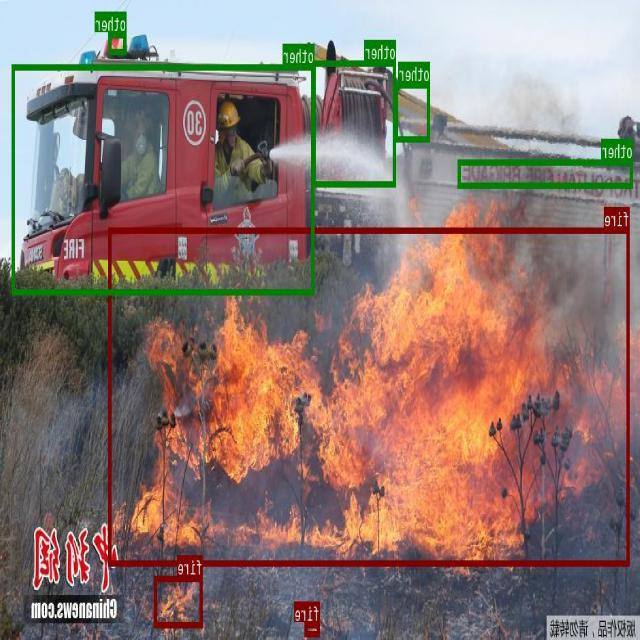fire: (110, 228, 630, 565), (155, 575, 203, 626), (305, 622, 320, 635)
other: (13, 64, 314, 293), (314, 60, 396, 186), (459, 159, 633, 187), (396, 82, 430, 141), (109, 32, 127, 52)
